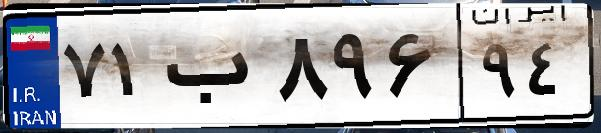1: (110, 28, 158, 98)
4: (525, 38, 570, 115)
6: (385, 28, 445, 110)
7: (57, 26, 110, 100)
8: (270, 28, 330, 110)
9: (330, 28, 385, 110), (475, 38, 525, 113)
ب: (158, 20, 270, 120)
